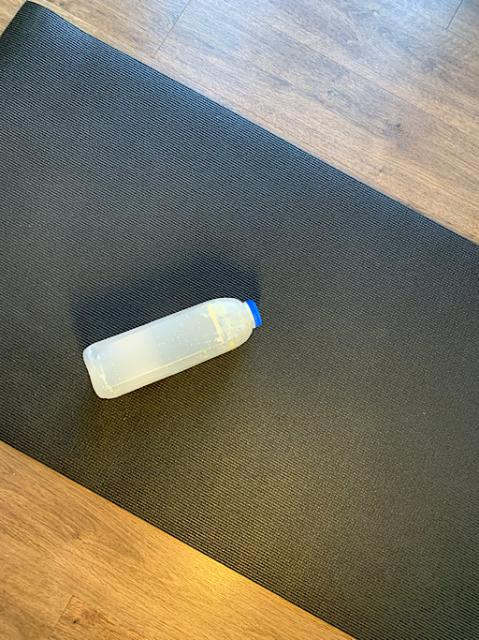plastic: (82, 297, 260, 396)
